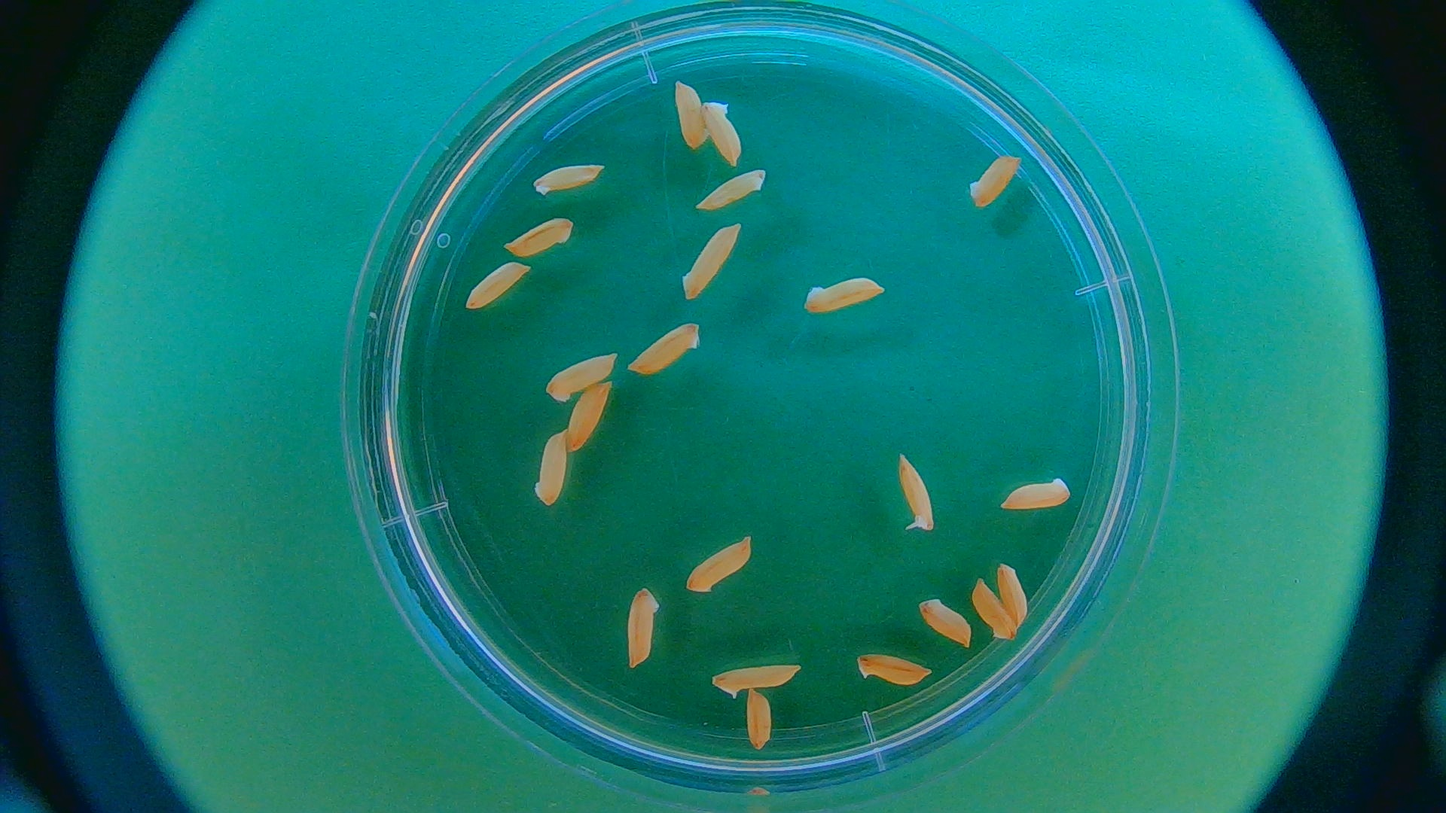no: (681, 224, 745, 305), (685, 534, 761, 597), (629, 321, 700, 379), (543, 350, 615, 403), (712, 661, 804, 700), (563, 382, 613, 452), (464, 261, 533, 311), (805, 274, 884, 317), (914, 594, 974, 649), (697, 166, 767, 212), (969, 151, 1023, 209), (504, 218, 575, 259), (997, 475, 1070, 514), (670, 83, 711, 151), (533, 430, 568, 507), (700, 99, 740, 166), (627, 587, 661, 665), (970, 580, 1014, 640), (531, 163, 606, 195), (858, 653, 932, 684), (994, 565, 1029, 625), (744, 685, 773, 754)
yes: (898, 451, 939, 531)
